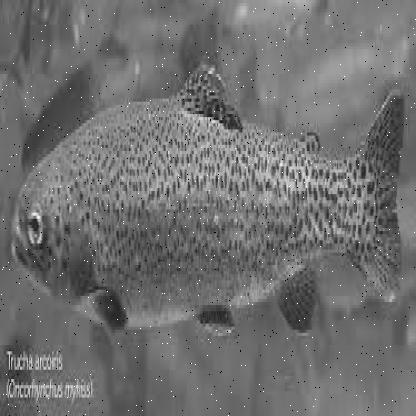fish: (9, 61, 403, 337)
